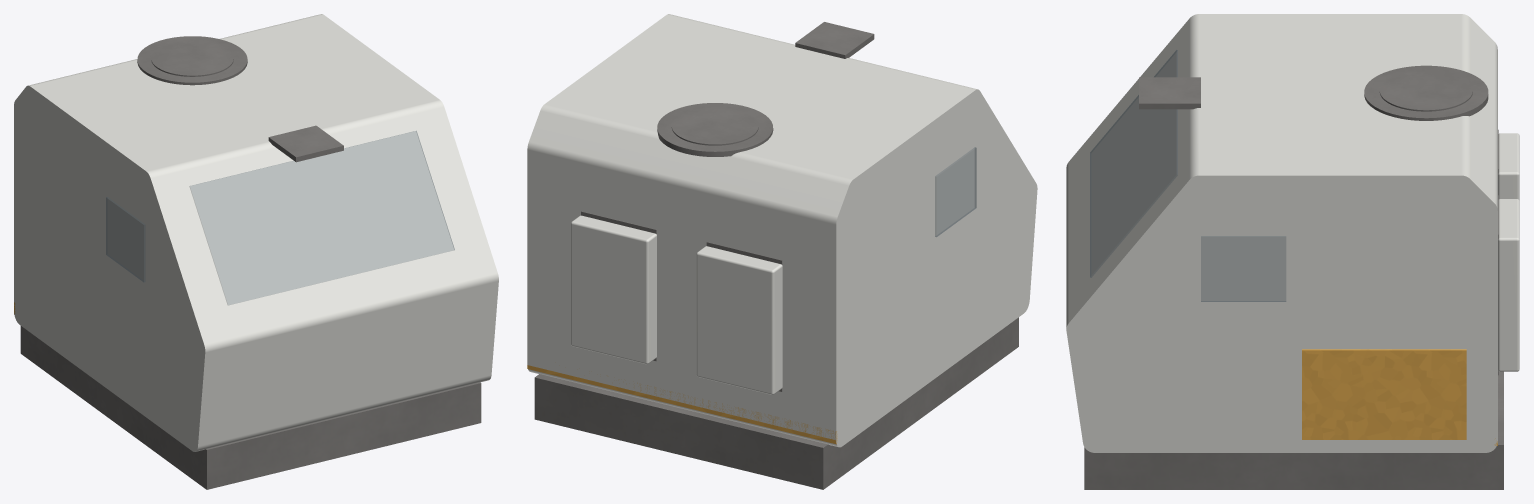
The model's file is rover24_pressurised_cab_m.glb.
3 renders of one model, left to right at view 1: azimuth 30°, elevation 25°; view 2: azimuth 150°, elevation 25°; view 3: azimuth 270°, elevation 25°, orthographic. The views are drawn at different scales.
Visible parts, largest first — view 1: cabin, windscreen, chassis_skirt, hatch_top, side_windows, mast_plate; view 2: cabin, hatch_suitports, chassis_skirt, hatch_top, side_windows, mast_plate, gold_trim, suitport_rings; view 3: cabin, chassis_skirt, gold_trim, windscreen, hatch_top, side_windows, hatch_suitports, mast_plate.
Boxes of the visible parts, x1=… form: cabin: x1=14, y1=14, x2=498, y2=451; windscreen: x1=189, y1=131, x2=454, y2=305; chassis_skirt: x1=20, y1=326, x2=481, y2=489; hatch_top: x1=137, y1=36, x2=247, y2=85; side_windows: x1=106, y1=197, x2=145, y2=282; mast_plate: x1=268, y1=125, x2=343, y2=162; cabin: x1=527, y1=14, x2=1037, y2=447; hatch_suitports: x1=571, y1=215, x2=782, y2=394; chassis_skirt: x1=534, y1=317, x2=1018, y2=489; hatch_top: x1=657, y1=103, x2=773, y2=156; side_windows: x1=935, y1=147, x2=976, y2=236; mast_plate: x1=795, y1=22, x2=874, y2=58; gold_trim: x1=527, y1=365, x2=837, y2=444; suitport_rings: x1=581, y1=211, x2=782, y2=391; cabin: x1=1066, y1=14, x2=1497, y2=452; chassis_skirt: x1=1084, y1=371, x2=1503, y2=489; gold_trim: x1=1302, y1=349, x2=1497, y2=445; windscreen: x1=1090, y1=50, x2=1177, y2=277; hatch_top: x1=1364, y1=65, x2=1488, y2=120; side_windows: x1=1201, y1=236, x2=1286, y2=301; hatch_suitports: x1=1498, y1=133, x2=1519, y2=371; mast_plate: x1=1139, y1=77, x2=1200, y2=109.
Bounding box in the file's own units: 2.49 × 2.3 × 2.92.
4 materials, 2 textured.
